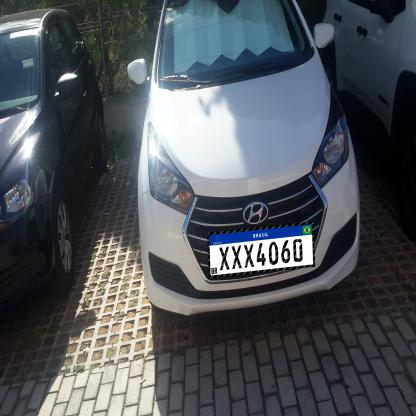PlacaM: (207, 221, 315, 278)
